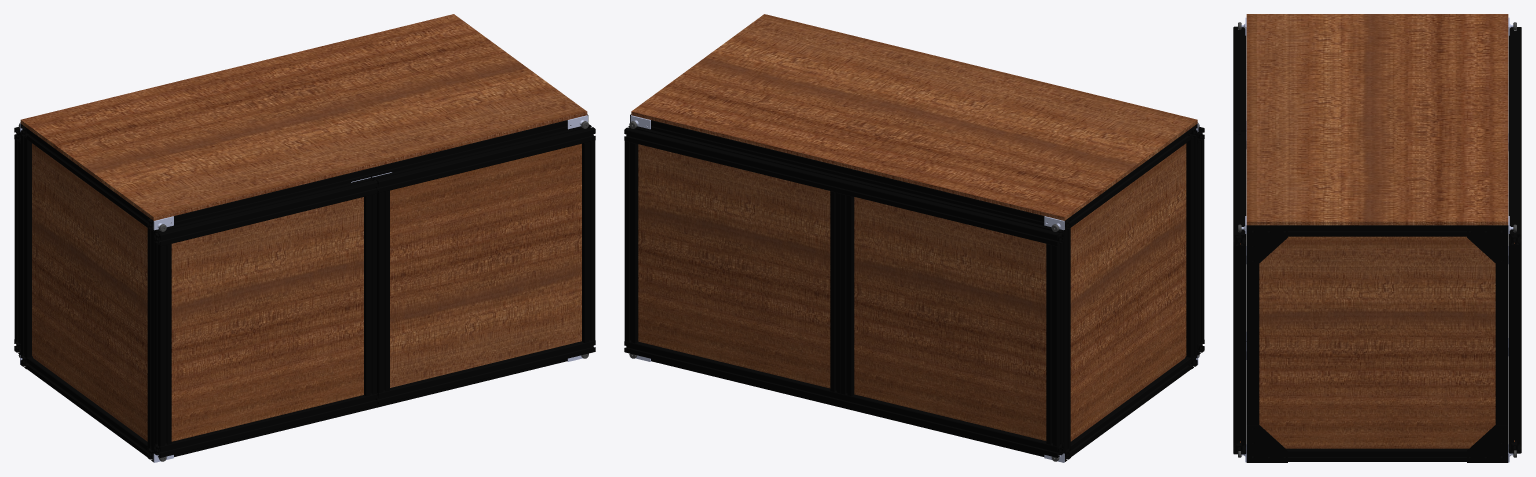
File: enclosure_closed.fbx
3 renders of one model, left to right at view 1: azimuth 30°, elevation 25°; view 2: azimuth 150°, elevation 25°; view 3: azimuth 270°, elevation 25°, orthographic.
Visible parts, largest first — view 1: polished mahogany 2d-4, polished mahogany 2d-3.3, polished mahogany 2d-3.4, polished mahogany 2d-2.2, satin finish aluminum-2.3, satin finish aluminum, satin finish aluminum-2.4, satin finish aluminum-2.2; view 2: polished mahogany 2d-4, polished mahogany 2d-3, polished mahogany 2d-3.2, polished mahogany 2d-2.2, satin finish aluminum-2.2, satin finish aluminum, satin finish aluminum-2, satin finish aluminum-2.3; view 3: polished mahogany 2d-4, polished mahogany 2d-2, satin finish aluminum, satin finish aluminum-2.4, satin finish aluminum-2, satin finish aluminum-2.3, satin finish aluminum-2.2, satin finish aluminum-3.2, satin finish aluminum-3.3, satin finish aluminum-3, satin finish aluminum-3.4.
Boxes of the visible parts, x1,y1,x2,y2 form: polished mahogany 2d-4: [20, 14, 587, 220]; polished mahogany 2d-3.3: [171, 197, 363, 441]; polished mahogany 2d-3.4: [390, 144, 581, 387]; polished mahogany 2d-2.2: [32, 143, 147, 441]; satin finish aluminum-2.3: [154, 178, 377, 457]; satin finish aluminum: [20, 120, 580, 461]; satin finish aluminum-2.4: [372, 124, 595, 404]; satin finish aluminum-2.2: [14, 127, 20, 354]; polished mahogany 2d-4: [631, 14, 1197, 220]; polished mahogany 2d-3: [638, 144, 830, 388]; polished mahogany 2d-3.2: [854, 197, 1046, 440]; polished mahogany 2d-2.2: [1070, 143, 1186, 441]; satin finish aluminum-2.2: [840, 178, 1063, 457]; satin finish aluminum: [637, 120, 1197, 461]; satin finish aluminum-2: [624, 126, 846, 404]; satin finish aluminum-2.3: [1197, 127, 1204, 355]; polished mahogany 2d-4: [1246, 14, 1508, 225]; polished mahogany 2d-2: [1259, 236, 1495, 448]; satin finish aluminum: [1246, 225, 1508, 461]; satin finish aluminum-2.4: [1233, 131, 1246, 454]; satin finish aluminum-2: [1508, 130, 1521, 453]; satin finish aluminum-2.3: [1233, 26, 1246, 134]; satin finish aluminum-2.2: [1508, 27, 1521, 133]; satin finish aluminum-3.2: [1246, 225, 1287, 263]; satin finish aluminum-3.3: [1467, 225, 1508, 263]; satin finish aluminum-3: [1246, 425, 1287, 462]; satin finish aluminum-3.4: [1467, 425, 1508, 462].
Size of the model in its own units: 155 by 83.27 by 90.32.
Materials: 8 (3 with a texture image).
